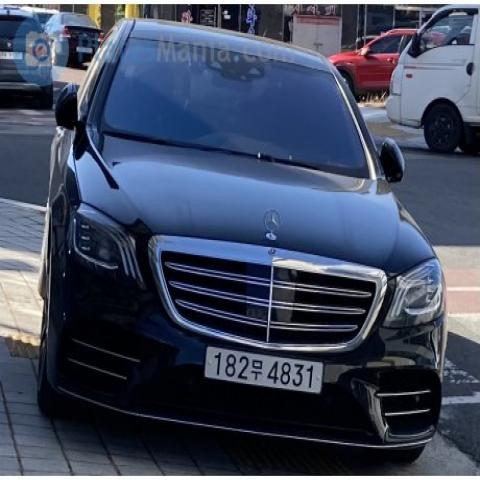LP: (199, 337, 327, 405)
